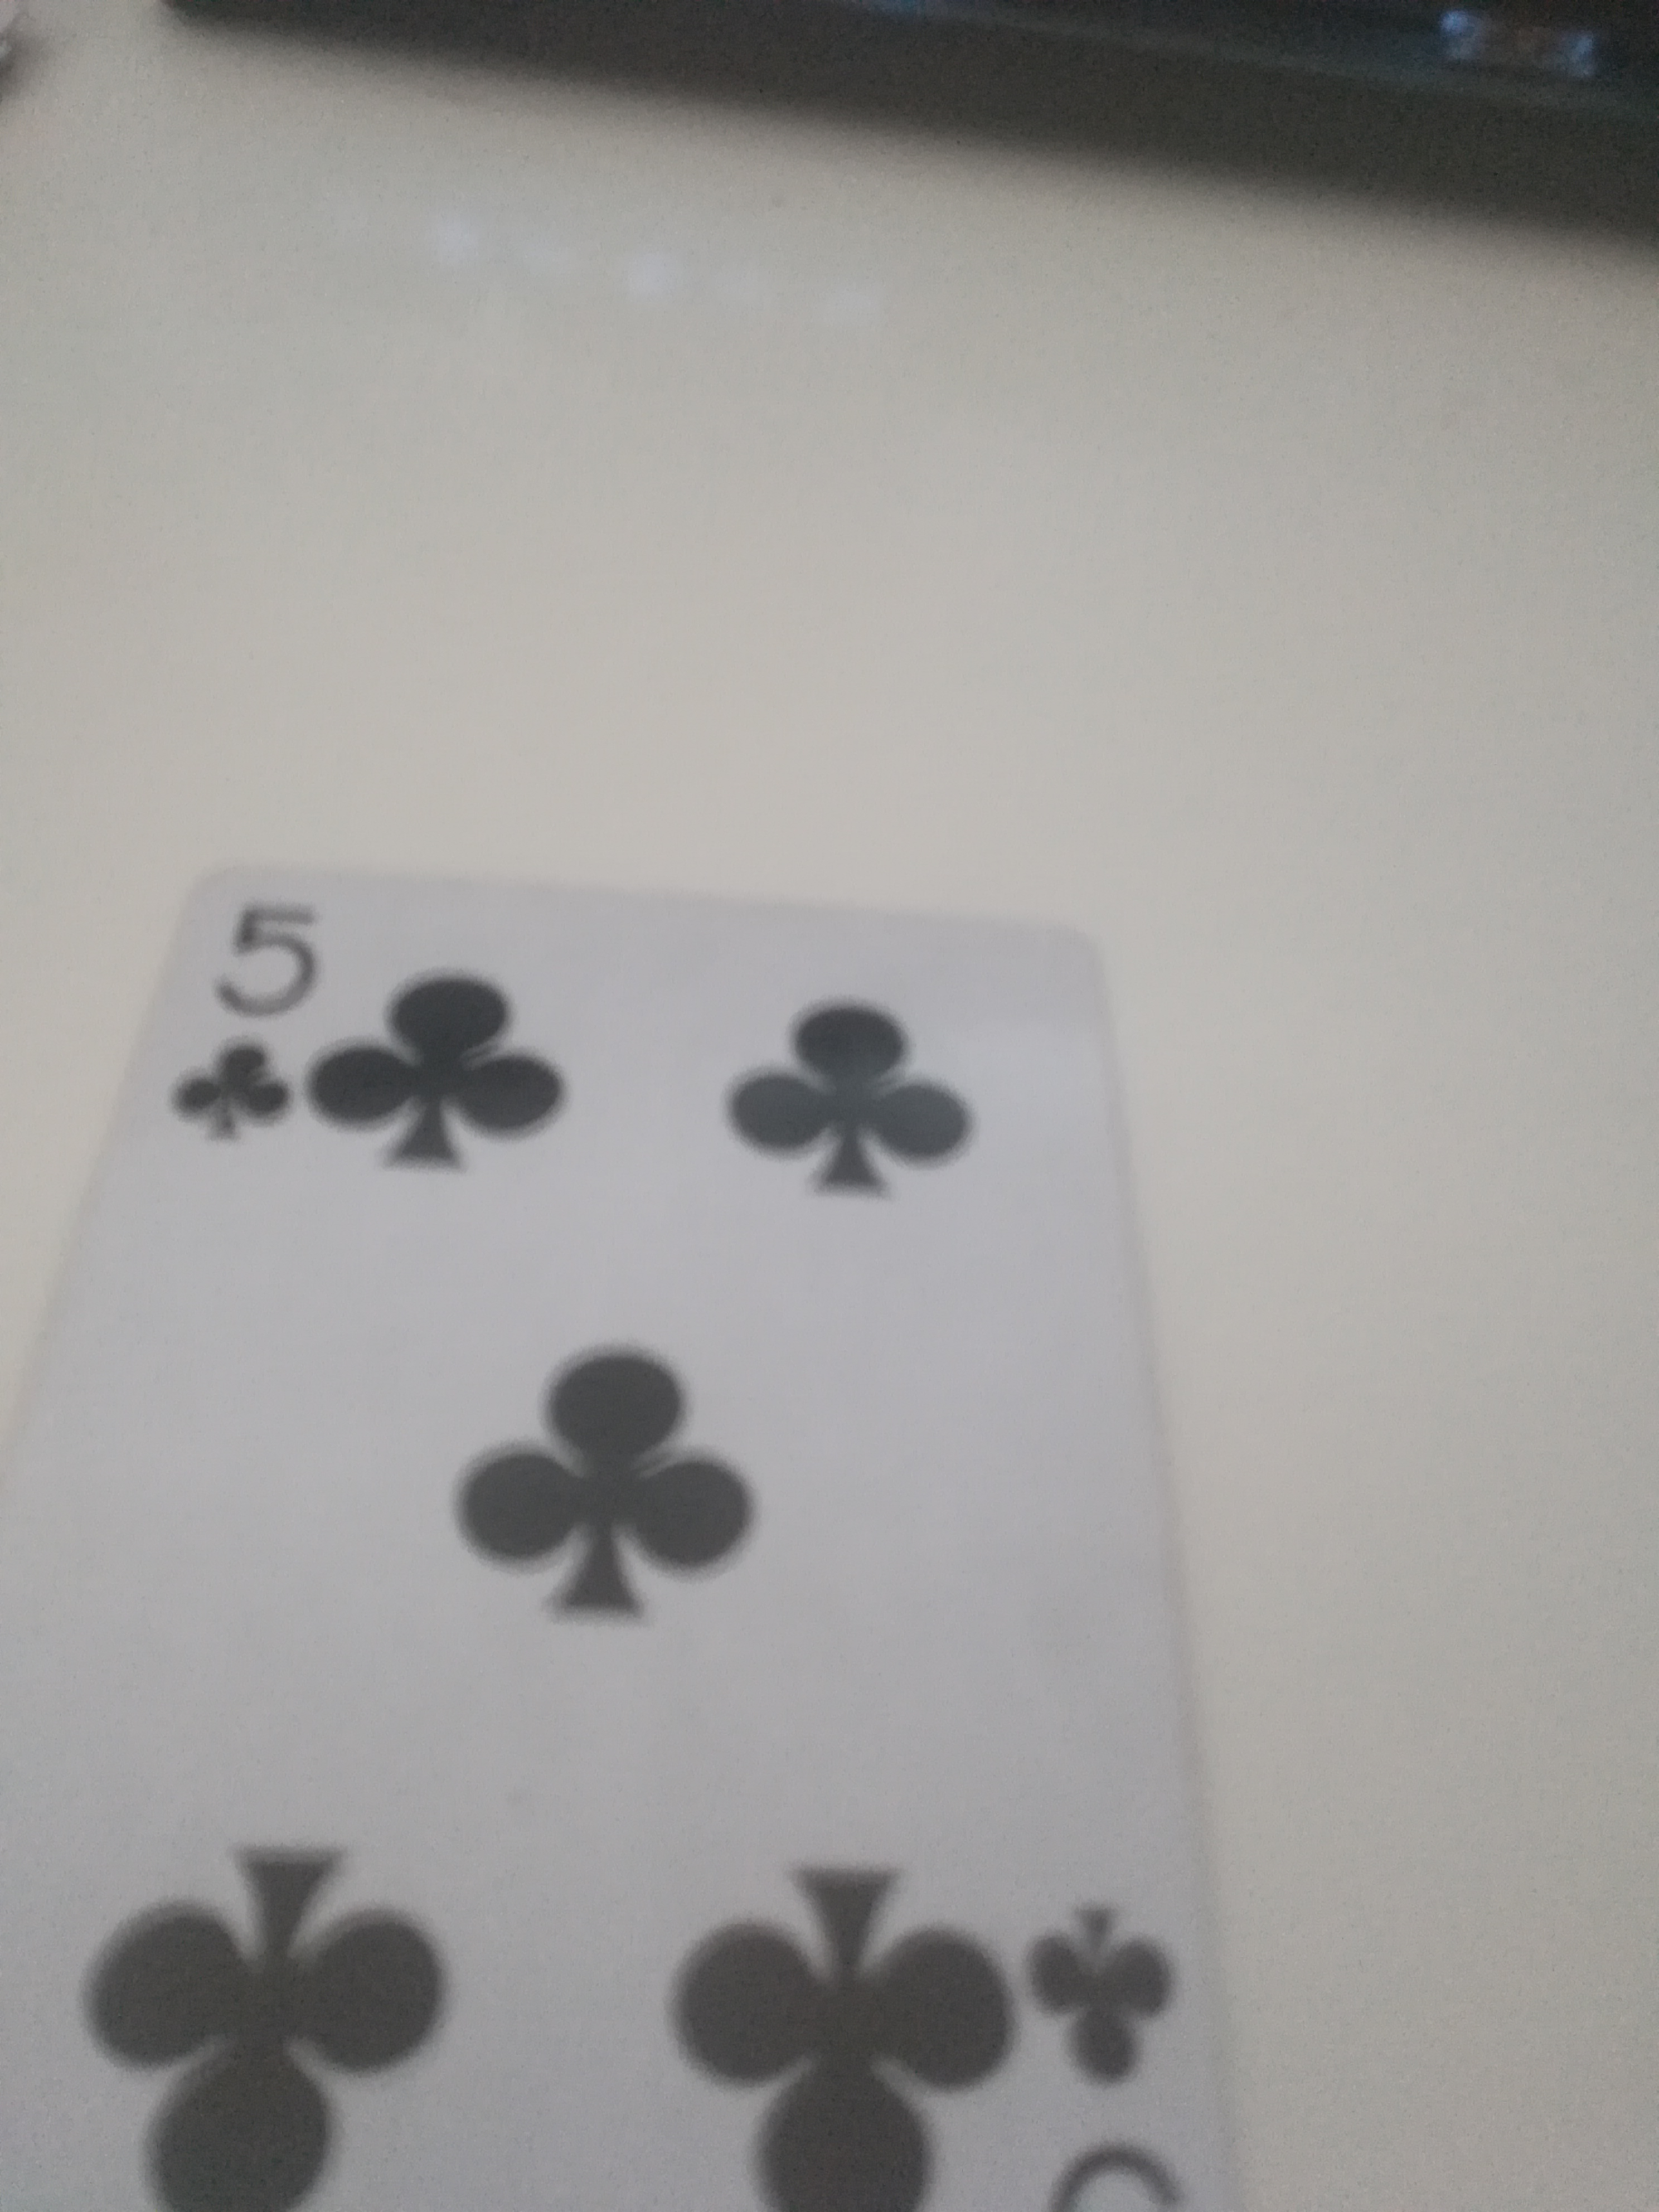5C: (0, 857, 1232, 2210)
